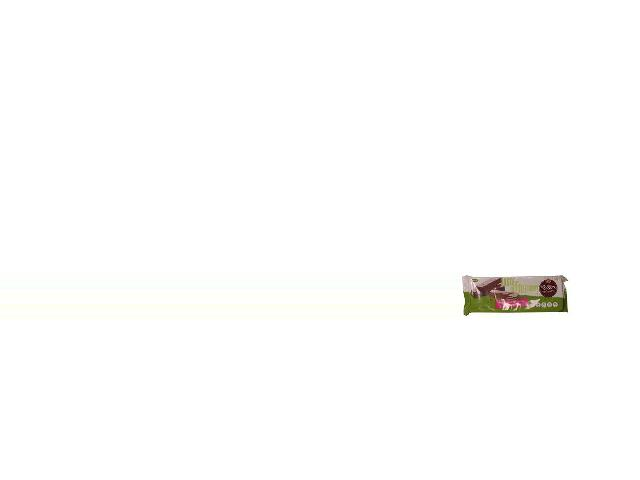chocolate: (462, 271, 571, 314)
